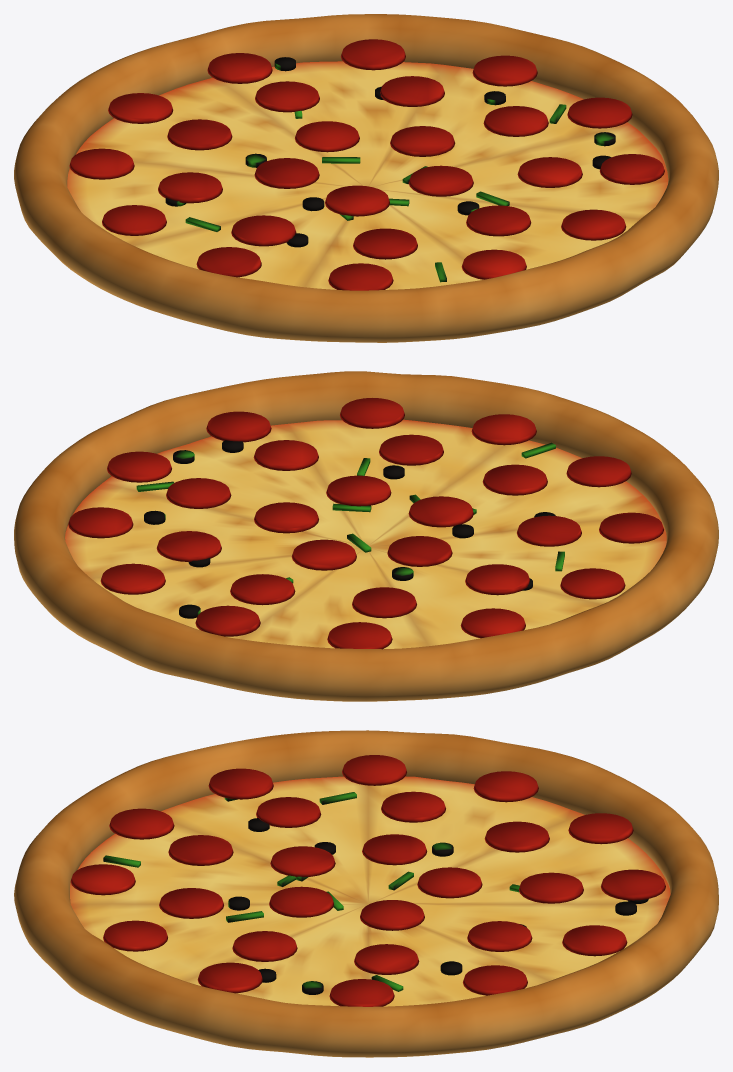
File: pizza.glb
3 renders of one model, top to bottom at view 1: azimuth 30°, elevation 25°; view 2: azimuth 150°, elevation 25°; view 3: azimuth 270°, elevation 25°, orthographic.
Visible parts, largest first — view 1: pizza; view 2: pizza; view 3: pizza.
Part boxes in pixels (left/top/right/bottom): pizza: left=14, top=14, right=718, bottom=342; pizza: left=14, top=371, right=718, bottom=701; pizza: left=14, top=730, right=718, bottom=1057.
Size of the model in its own units: 0.3101 by 0.0253 by 0.3111.
